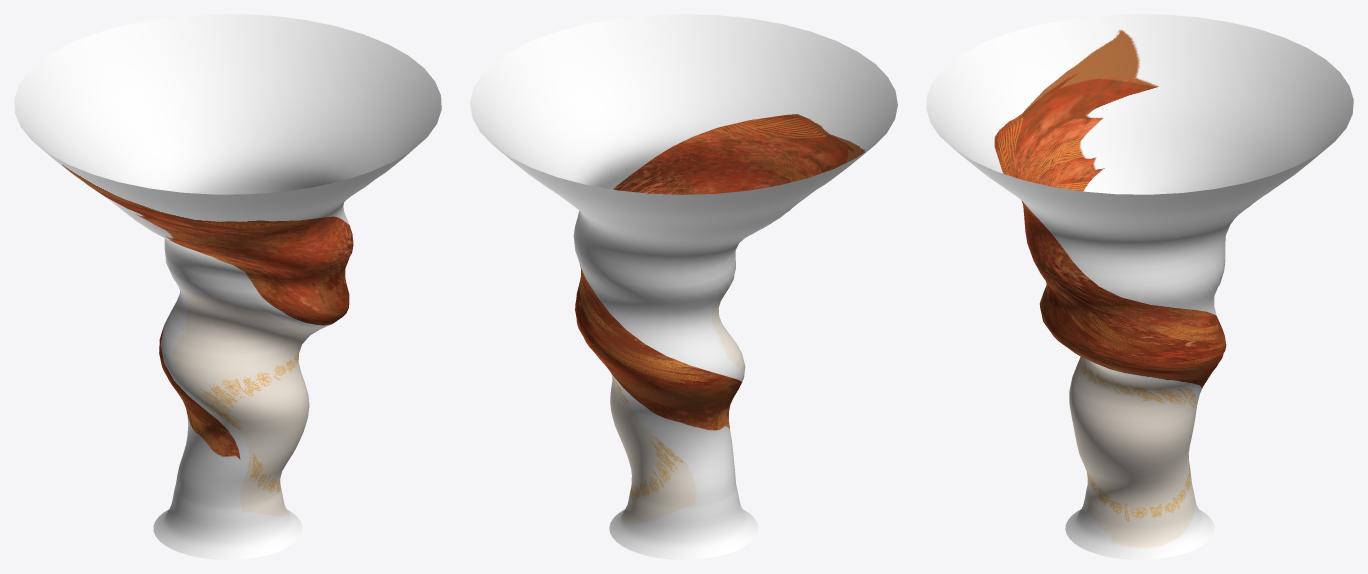
Rendered from tornadoobj.obj.
3 views of the same model, side by side, from view 1: azimuth 30°, elevation 25°; view 2: azimuth 150°, elevation 25°; view 3: azimuth 270°, elevation 25° (orthographic).
Visible parts, largest first — view 1: pCylinder1; view 2: pCylinder1; view 3: pCylinder1.
Part boxes in pixels (x1,y1,x2,y2): pCylinder1: (14, 14, 441, 559); pCylinder1: (470, 14, 897, 559); pCylinder1: (926, 14, 1353, 559).
Size of the model in its own units: 10.17 by 11.13 by 10.17.
